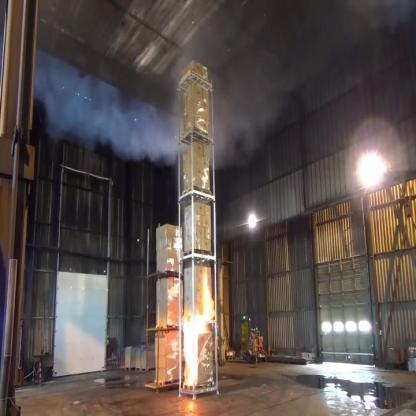fire: (180, 265, 218, 391)
